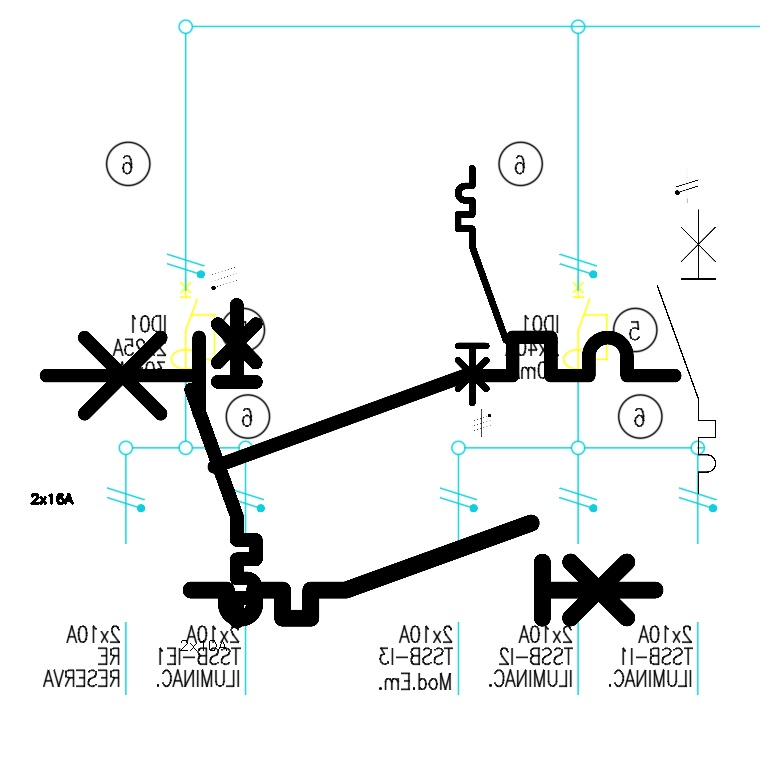interruptor_termomagnetico: (30, 321, 691, 483), (179, 511, 667, 630), (183, 296, 264, 629), (650, 202, 723, 500), (452, 162, 512, 409)
